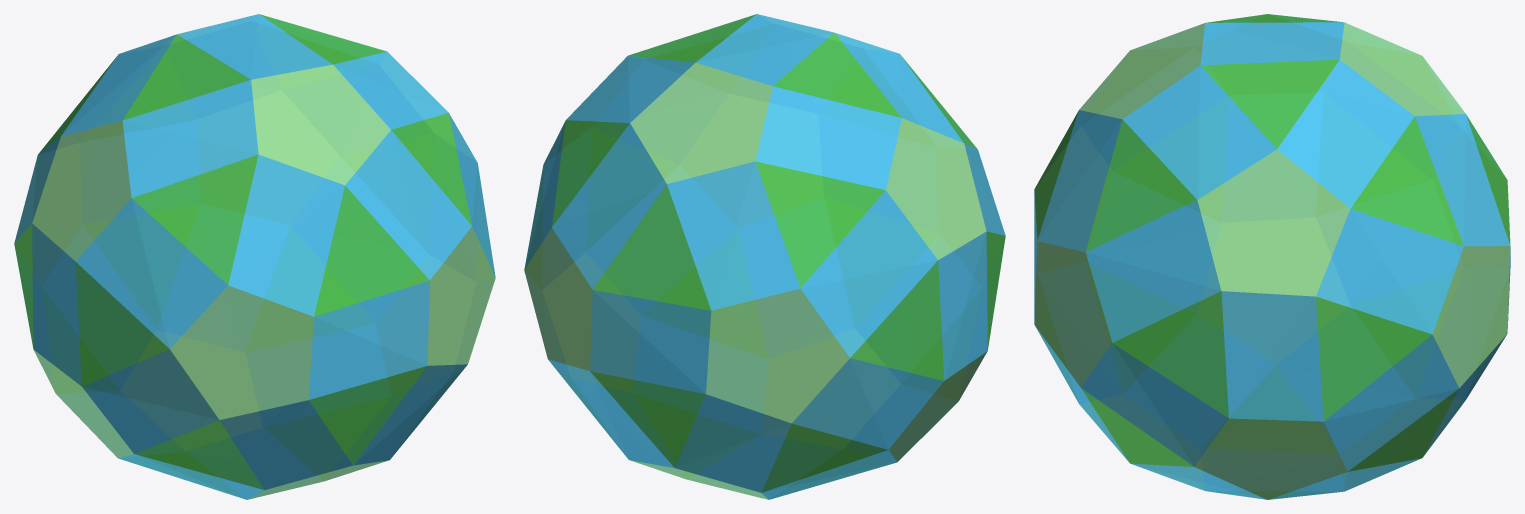
Rendered from BiscribedSnubDodecahedron.obj.
3 renders of one model, left to right at view 1: azimuth 30°, elevation 25°; view 2: azimuth 150°, elevation 25°; view 3: azimuth 270°, elevation 25°, orthographic. The views are drawn at different scales.
Bounding box in the file's own units: 2 × 2 × 2.
